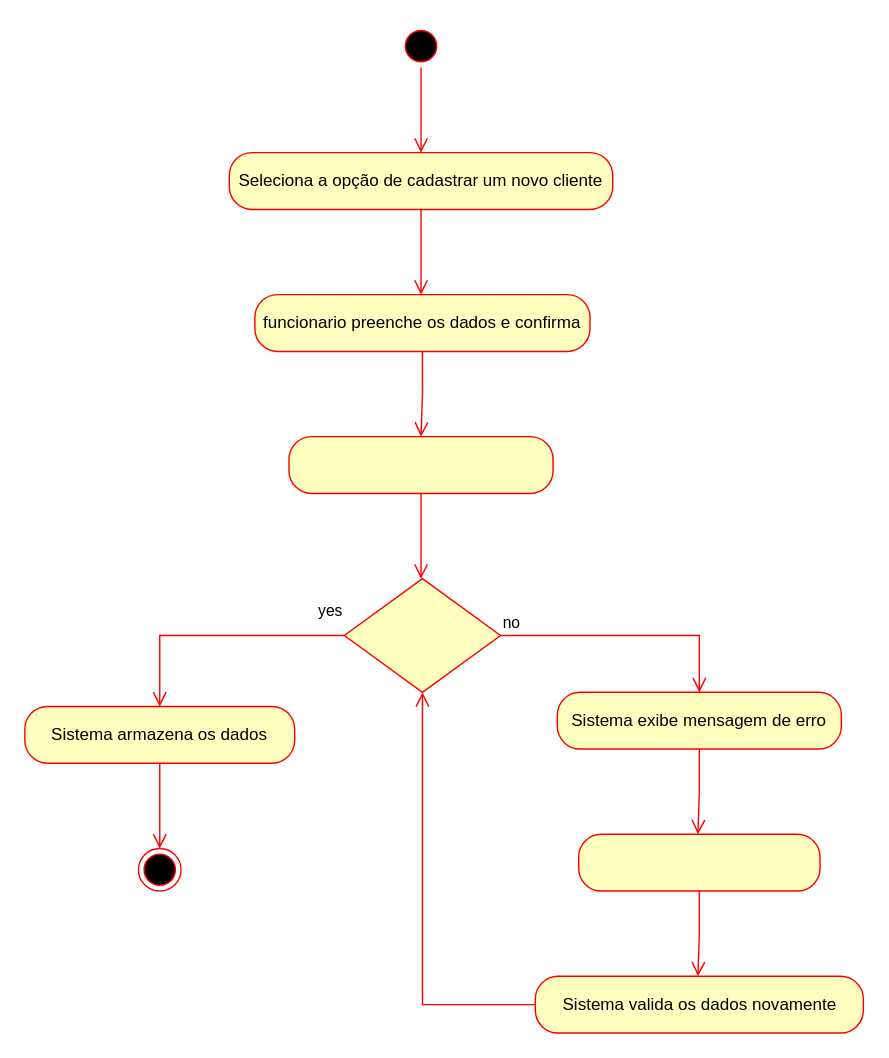
This 889x1058 diagram has some shape labels left out. The centre of each missing label's shape, as x and y in pixels:
Dados Validados?: point (422, 634)
funcionario corrige os dados: point (698, 862)
sistema valida os dados: point (420, 464)
